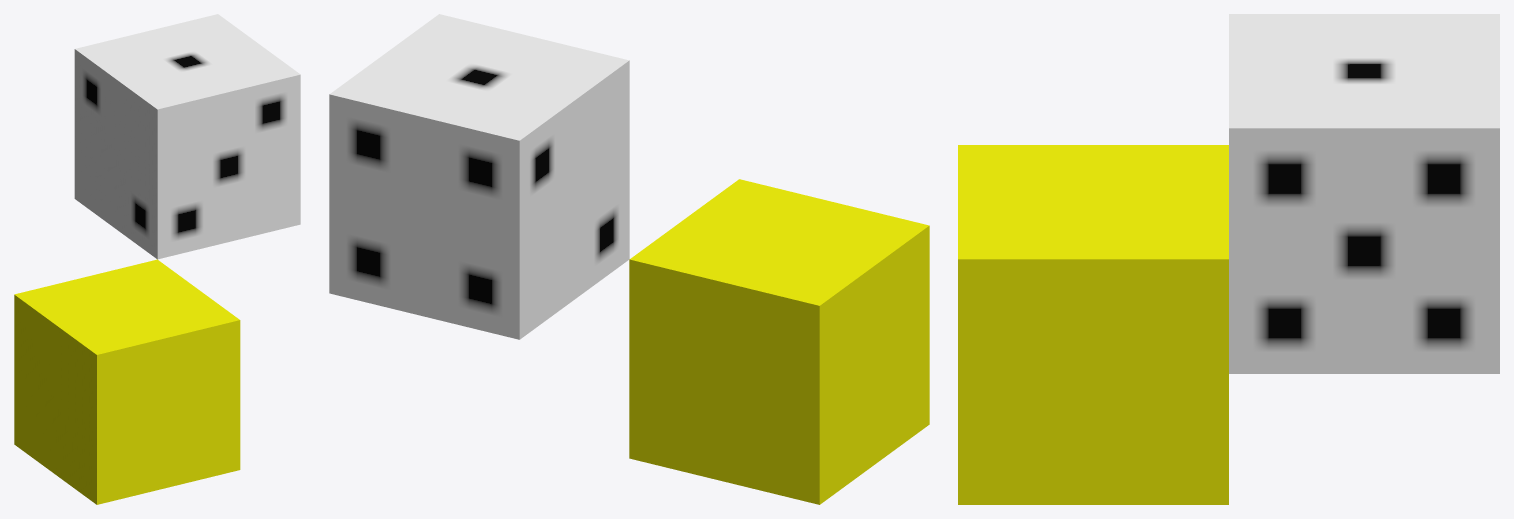
File: TwoDices.fbx
The picture shows the model from 3 angles, left to right: view 1: azimuth 30°, elevation 25°; view 2: azimuth 150°, elevation 25°; view 3: azimuth 270°, elevation 25°; orthographic projection. The views are drawn at different scales.
Parts seen in each view (by area): view 1: TexCube, NonTexCube; view 2: TexCube, NonTexCube; view 3: TexCube, NonTexCube.
Boxes of the visible parts, <box> form: TexCube: <box>74,14,300,259</box>; NonTexCube: <box>14,259,240,504</box>; TexCube: <box>329,14,629,339</box>; NonTexCube: <box>629,179,929,504</box>; TexCube: <box>1229,14,1499,373</box>; NonTexCube: <box>958,145,1228,504</box>.
Size of the model in its own units: 200 by 200 by 200.
2 materials, 1 textured.
